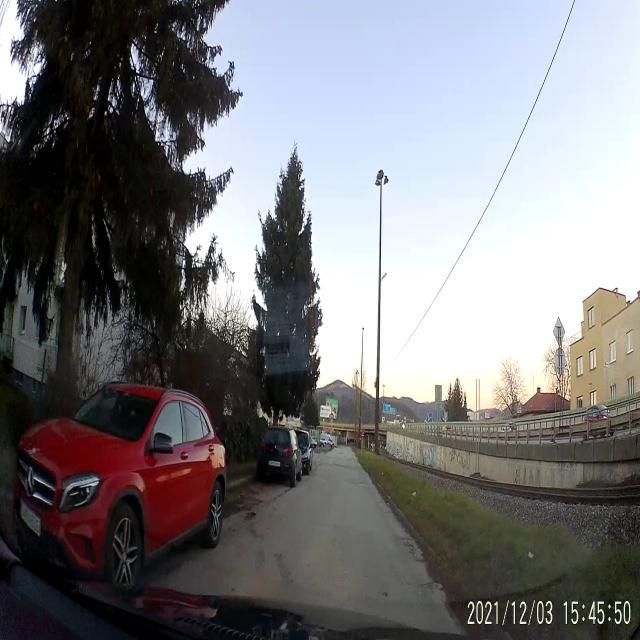Pothole: (246, 506, 260, 524)
